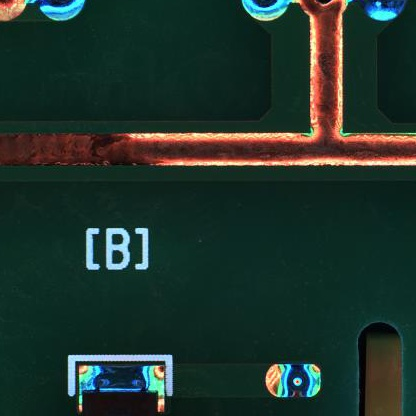spot: (265, 363, 322, 397)
